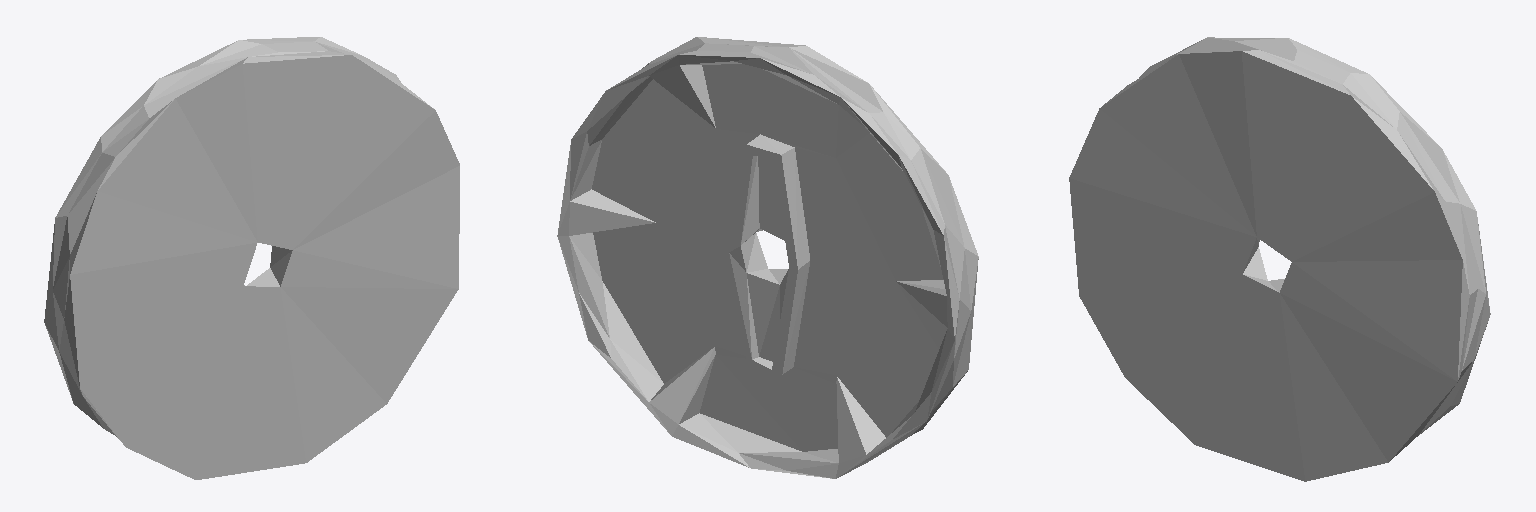
The model's file is part_2_simplified.obj.
The picture shows the model from 3 angles: view 1: azimuth 30°, elevation 25°; view 2: azimuth 150°, elevation 25°; view 3: azimuth 330°, elevation 25°; orthographic projection.
Parts seen in each view (by area): view 1: part_2_simplified; view 2: part_2_simplified; view 3: part_2_simplified.
Part boxes in pixels (x1,y1,x2,y2): part_2_simplified: (44,37,459,479); part_2_simplified: (557,37,978,478); part_2_simplified: (1069,37,1490,481).
Size of the model in its own units: 0.1294 by 0.1291 by 0.014.